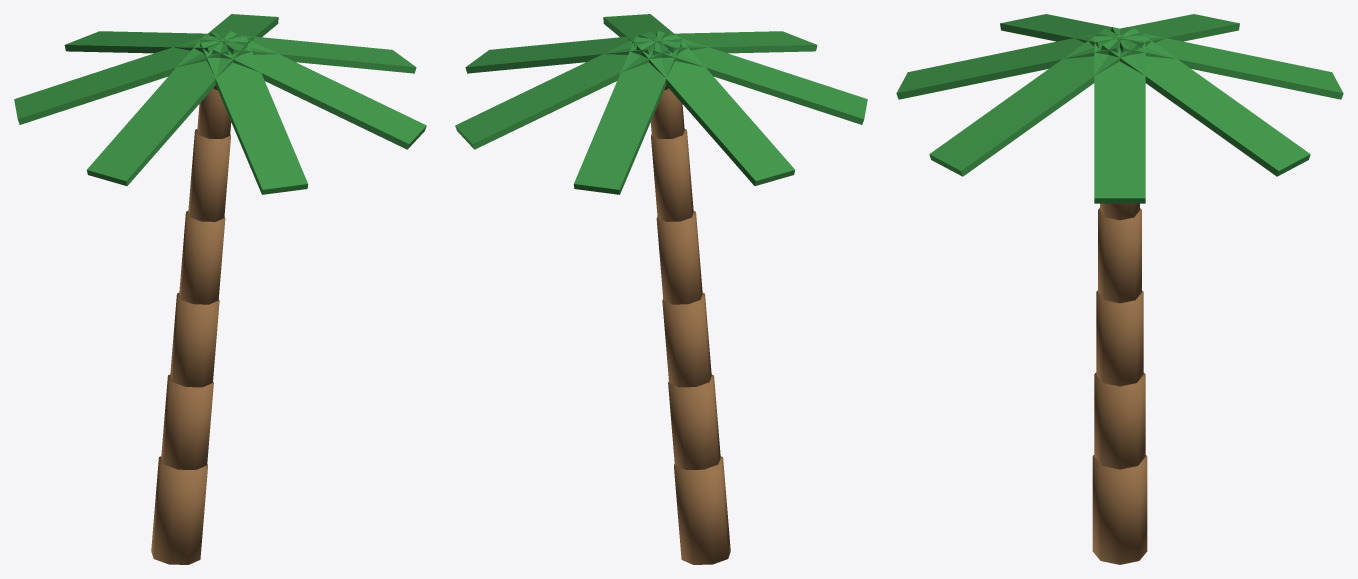
Rendered from PalmTree.fbx.
3 renders of one model, left to right at view 1: azimuth 30°, elevation 25°; view 2: azimuth 150°, elevation 25°; view 3: azimuth 270°, elevation 25°, orthographic. The views are drawn at different scales.
Parts seen in each view (by area): view 1: Palm_Frond5, Palm_Frond4, Palm_Frond6, Palm_Frond3, Bark_Trunk0, Bark_Trunk1, Bark_Trunk2, Palm_Frond0, Bark_Trunk3, Bark_Trunk4, Palm_Frond2, Bark_Trunk5 (+1 smaller); view 2: Palm_Frond2, Palm_Frond3, Palm_Frond1, Palm_Frond4, Bark_Trunk0, Bark_Trunk1, Bark_Trunk2, Palm_Frond0, Bark_Trunk3, Bark_Trunk4, Palm_Frond5, Bark_Trunk5 (+1 smaller); view 3: Palm_Frond0, Palm_Frond1, Palm_Frond6, Bark_Trunk0, Palm_Frond2, Palm_Frond5, Bark_Trunk1, Bark_Trunk2, Bark_Trunk3, Palm_Frond3, Palm_Frond4, Bark_Trunk4.
Boxes of the visible parts, box(x1,y1,x2,y2) form: Palm_Frond5: box(200, 37, 308, 194); Palm_Frond4: box(87, 34, 245, 185); Palm_Frond6: box(212, 31, 426, 149); Palm_Frond3: box(14, 30, 229, 124); Bark_Trunk0: box(151, 456, 207, 564); Bark_Trunk1: box(161, 374, 213, 469); Bark_Trunk2: box(170, 293, 219, 387); Palm_Frond0: box(209, 32, 416, 73); Bark_Trunk3: box(179, 211, 225, 304); Bark_Trunk4: box(188, 129, 230, 221); Palm_Frond2: box(64, 31, 243, 53); Bark_Trunk5: box(197, 88, 231, 138); Palm_Frond2: box(573, 37, 681, 194); Palm_Frond3: box(636, 34, 794, 185); Palm_Frond1: box(455, 31, 669, 149); Palm_Frond4: box(652, 30, 867, 124); Bark_Trunk0: box(674, 456, 730, 564); Bark_Trunk1: box(668, 374, 720, 469); Bark_Trunk2: box(662, 293, 711, 387); Palm_Frond0: box(465, 32, 672, 73); Bark_Trunk3: box(656, 211, 702, 304); Bark_Trunk4: box(651, 129, 693, 221); Palm_Frond5: box(638, 31, 817, 53); Bark_Trunk5: box(650, 88, 684, 138); Palm_Frond0: box(1094, 36, 1145, 203); Palm_Frond1: box(1101, 28, 1310, 176); Palm_Frond6: box(929, 28, 1138, 176); Bark_Trunk0: box(1092, 455, 1147, 564); Palm_Frond2: box(1111, 27, 1343, 99); Palm_Frond5: box(896, 27, 1128, 99); Bark_Trunk1: box(1094, 372, 1145, 469); Bark_Trunk2: box(1096, 290, 1143, 386); Bark_Trunk3: box(1098, 208, 1141, 303); Palm_Frond3: box(1095, 14, 1239, 48); Palm_Frond4: box(1000, 14, 1144, 48); Bark_Trunk4: box(1100, 203, 1139, 220).
Bounding box in the file's own units: 11.94 × 16.36 × 12.25.
